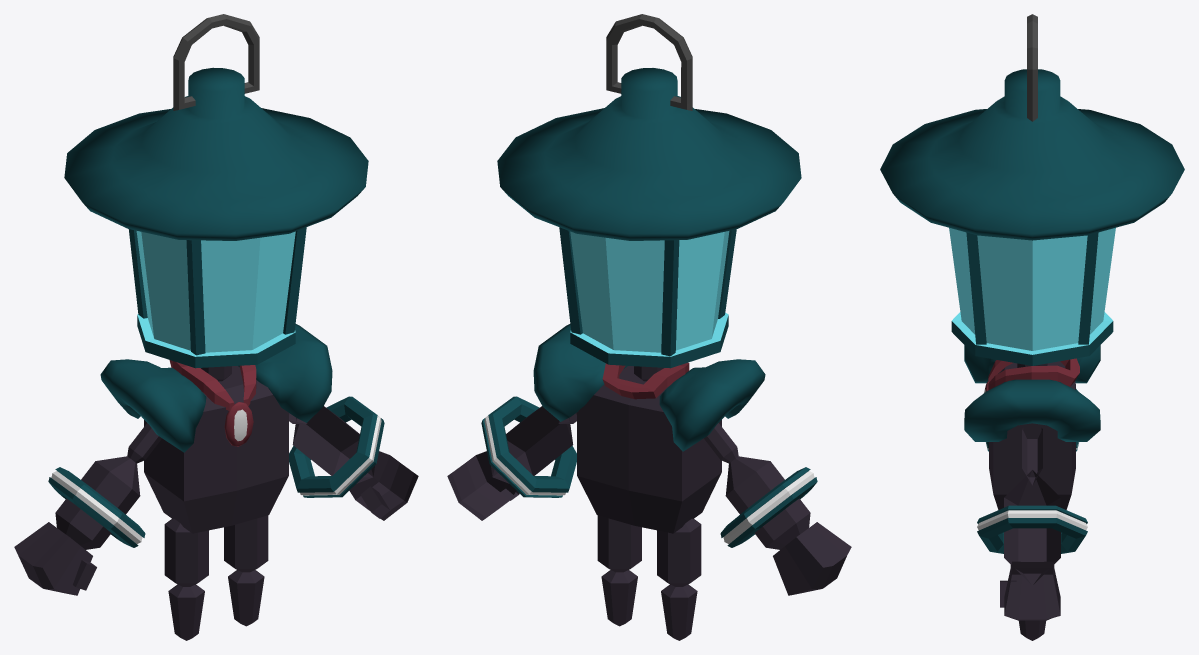
File: Main_character better origin.fbx
3 renders of one model, left to right at view 1: azimuth 30°, elevation 25°; view 2: azimuth 150°, elevation 25°; view 3: azimuth 270°, elevation 25°, orthographic.
Visible parts, largest first — view 1: Cube; view 2: Cube; view 3: Cube.
Boxes of the visible parts, <box> form: Cube: <box>14,14,418,640</box>; Cube: <box>447,14,851,640</box>; Cube: <box>880,14,1184,640</box>.
Bounding box in the file's own units: 537 × 831 × 377.
